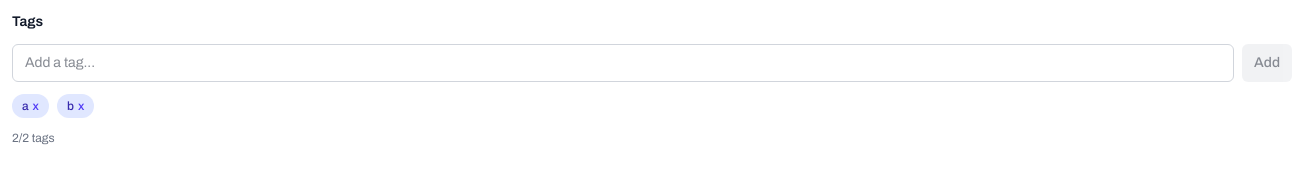
Test: TagsEditor › max-limit enforcement › rejects adding past the max limit via Enter and shows the limit error
Type "third" into the field with test id "tag-input". click: (623, 63)
box: [12,44,1234,82]
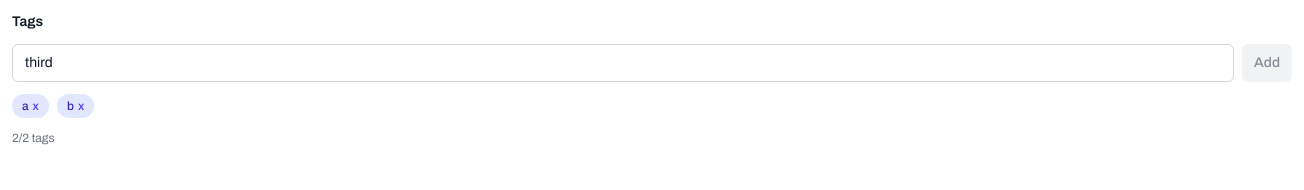
Press Enter in the field with test id "tag-input", box [12,44,1234,82]
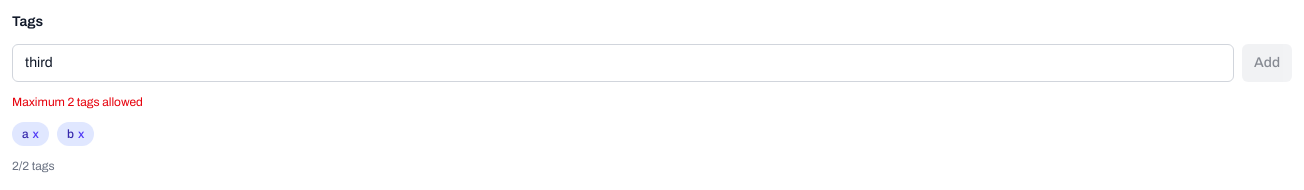
Now the text with test id "tag-error" reads "Maximum 2 tags allowed", box [12,95,143,109]
